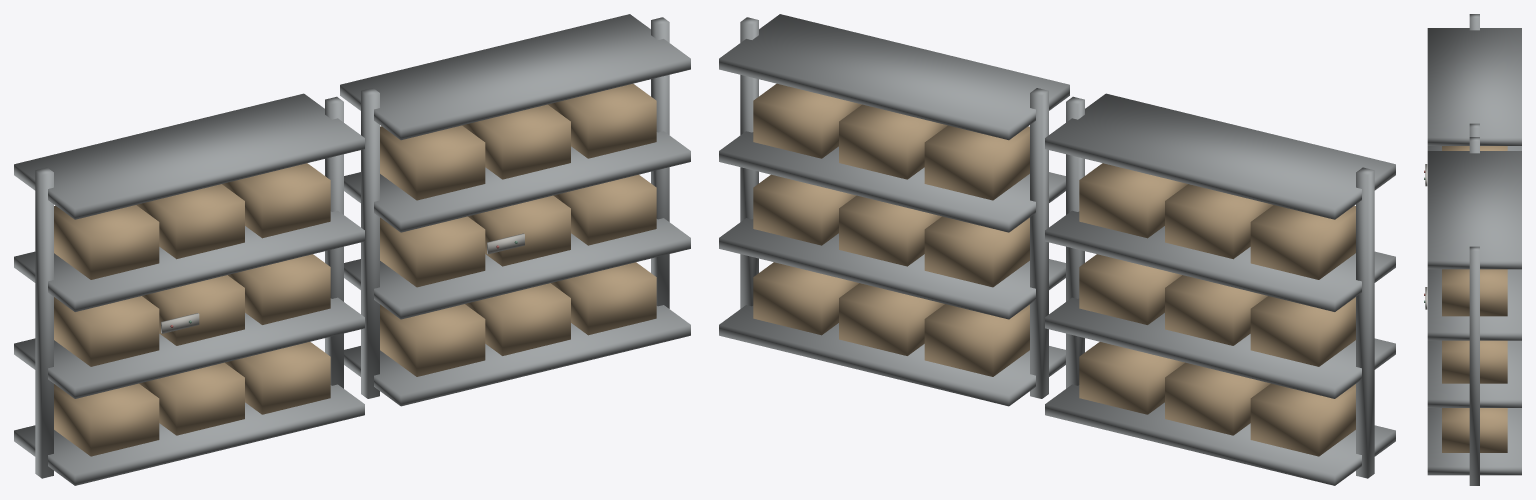
The model's file is warehouse_pallet_rack__cluster.glb.
3 renders of one model, left to right at view 1: azimuth 30°, elevation 25°; view 2: azimuth 150°, elevation 25°; view 3: azimuth 270°, elevation 25°, orthographic. The views are drawn at different scales.
Visible parts, largest first — view 1: world; view 2: world; view 3: world.
Boxes of the visible parts, <box> form: world: <box>14,14,690,485</box>; world: <box>719,14,1395,485</box>; world: <box>1424,14,1521,485</box>.
Bounding box in the file's own units: 4.76 × 2.2 × 0.831.
